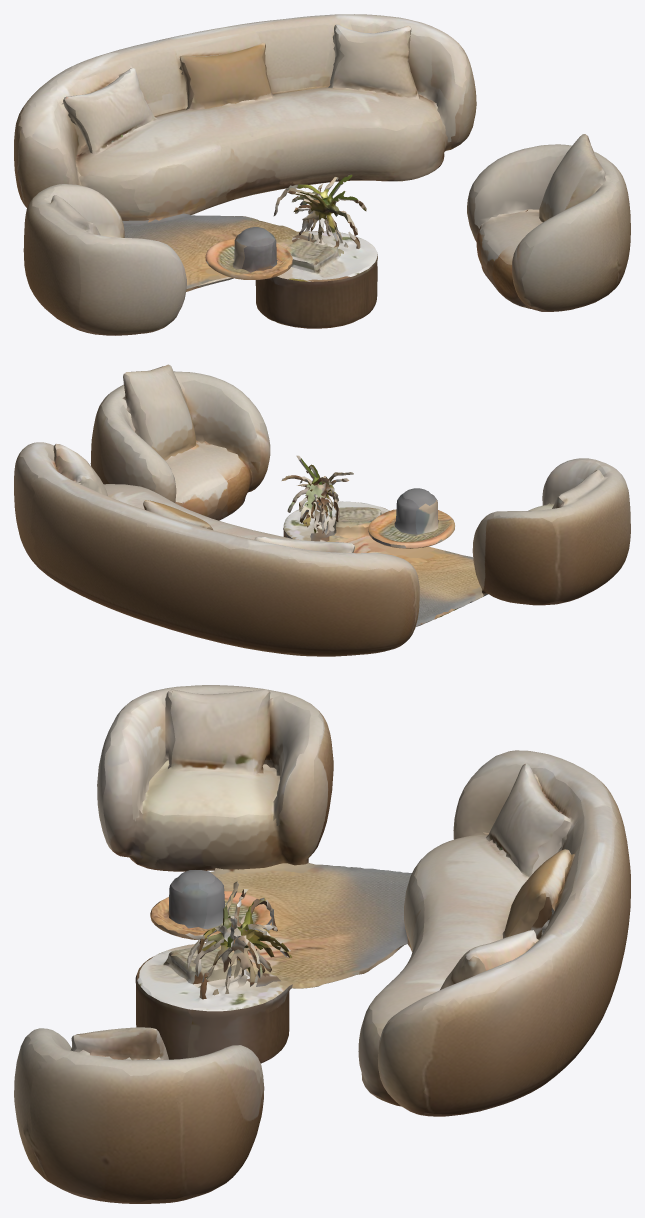
3 renders of one model, top to bottom at view 1: azimuth 30°, elevation 25°; view 2: azimuth 150°, elevation 25°; view 3: azimuth 270°, elevation 25°, orthographic. The views are drawn at different scales.
Visible parts, largest first — view 1: tmphyd_eaer.ply; view 2: tmphyd_eaer.ply; view 3: tmphyd_eaer.ply.
Boxes of the visible parts, bbox=[...] form: tmphyd_eaer.ply: bbox=[14, 14, 630, 335]; tmphyd_eaer.ply: bbox=[14, 364, 630, 656]; tmphyd_eaer.ply: bbox=[14, 685, 630, 1203].
Bounding box in the file's own units: 1.96 × 0.5776 × 1.48.
Materials: 1 (1 with a texture image).
